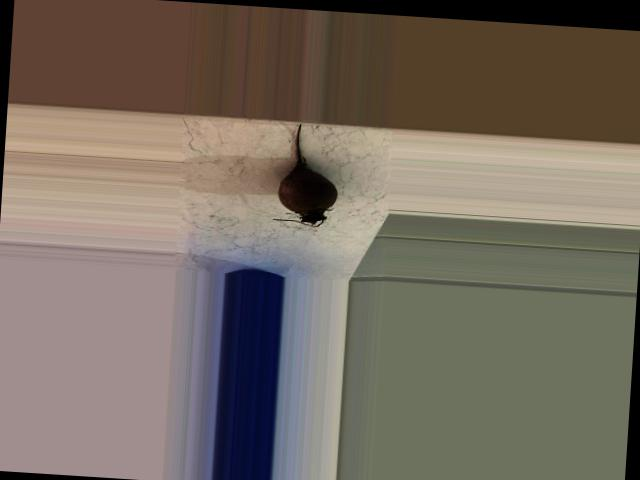beet: (271, 122, 340, 228)
